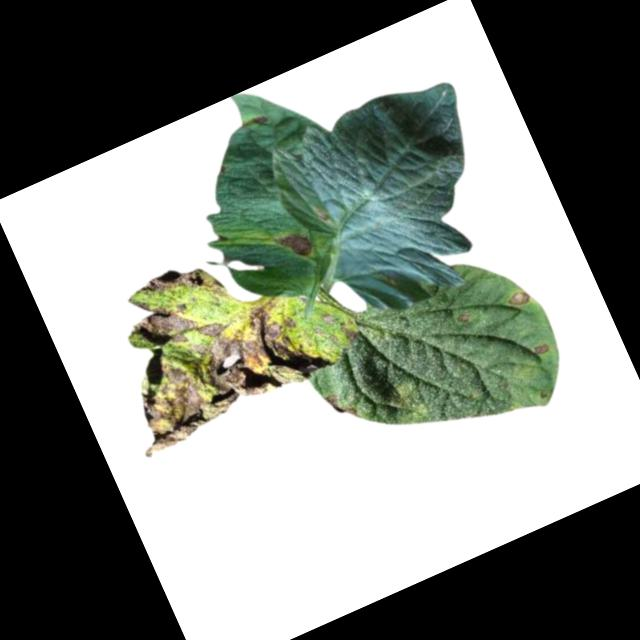Early_blight: (94, 259, 332, 460), (135, 251, 215, 312), (323, 385, 361, 426), (278, 226, 317, 263), (505, 287, 535, 311), (337, 318, 362, 344), (531, 340, 553, 358), (251, 112, 269, 129), (316, 206, 332, 224)
